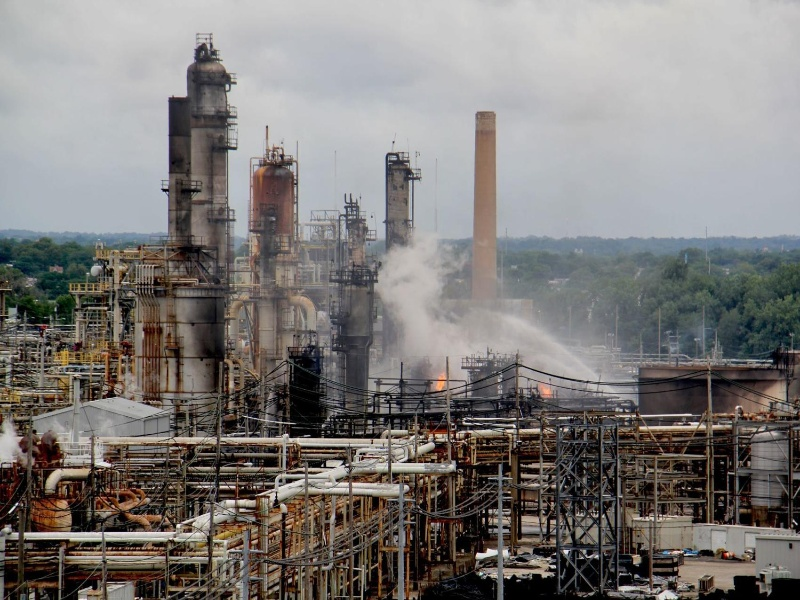smoke: (374, 255, 587, 386)
